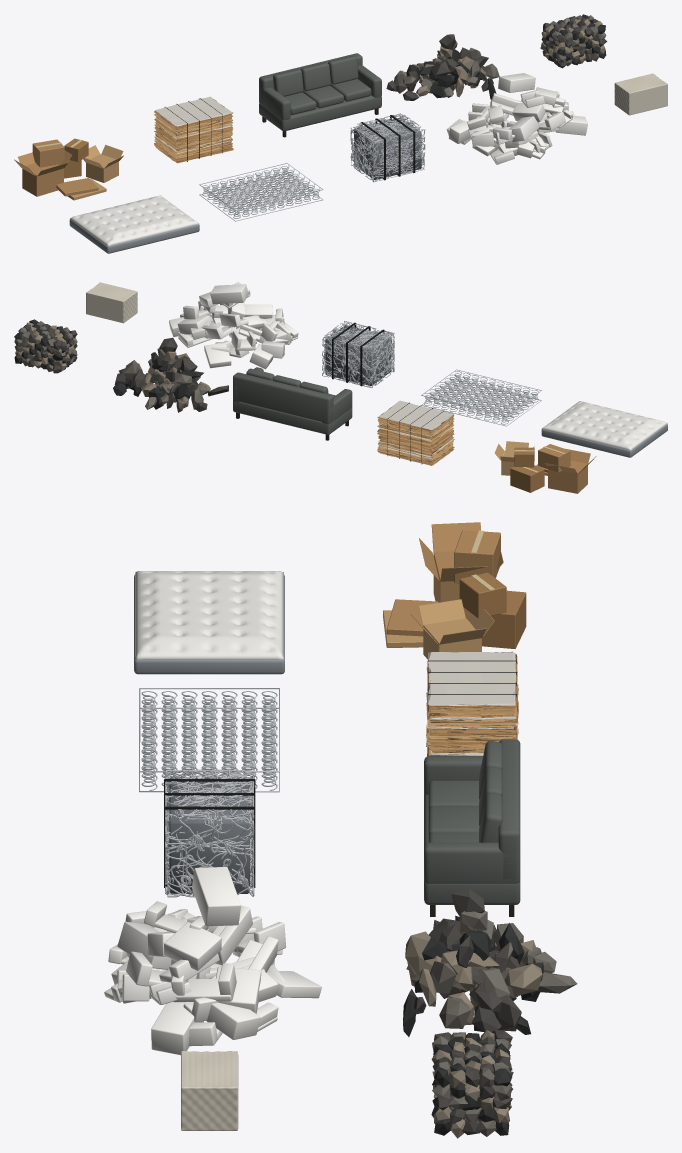
The model's file is journey.min.glb.
3 views of the same model, one above another, from view 1: azimuth 30°, elevation 25°; view 2: azimuth 150°, elevation 25°; view 3: azimuth 270°, elevation 25° (orthographic). The views are drawn at different scales.
Visible parts, largest first — view 1: polyPileMesh, sofaMesh, springsWire, mattressTop, baleWire, baleCore, polyBlockMesh, cbMesh_cardWhite, cbMesh_kraft3, boxMesh0, cbMesh_kraft2, cbMesh_kraft (+14 smaller); view 2: polyPileMesh, sofaMesh, springsWire, mattressTop, baleWire, baleCore, cbMesh_cardWhite, polyBlockMesh, residualPile_chunkA, cbMesh_kraft, cbMesh_kraft2, residualPile_chunkB (+14 smaller); view 3: polyPileMesh, sofaMesh, mattressTop, springsWire, baleWire, cbMesh_cardWhite, polyBlockMesh, baleCore, residualPile_chunkA, residualPile_chunkB, residualPile_chunkD, boxMesh2 (+15 smaller).
Part boxes in pixels (bbox=[...]): polyPileMesh: bbox=[446, 73, 587, 164]; sofaMesh: bbox=[259, 53, 381, 131]; springsWire: bbox=[199, 163, 323, 221]; mattressTop: bbox=[70, 195, 198, 246]; baleWire: bbox=[350, 113, 425, 182]; baleCore: bbox=[354, 117, 421, 179]; polyBlockMesh: bbox=[614, 73, 667, 115]; cbMesh_cardWhite: bbox=[155, 96, 232, 155]; cbMesh_kraft3: bbox=[153, 114, 233, 160]; boxMesh0: bbox=[14, 150, 71, 196]; cbMesh_kraft2: bbox=[154, 98, 233, 162]; cbMesh_kraft: bbox=[154, 111, 232, 163]; polyPileMesh: bbox=[169, 282, 298, 369]; sofaMesh: bbox=[233, 367, 352, 434]; springsWire: bbox=[421, 369, 541, 426]; mattressTop: bbox=[542, 401, 667, 450]; baleWire: bbox=[322, 321, 394, 387]; baleCore: bbox=[325, 325, 391, 385]; cbMesh_cardWhite: bbox=[378, 400, 453, 458]; polyBlockMesh: bbox=[86, 282, 137, 323]; residualPile_chunkA: bbox=[114, 337, 228, 411]; cbMesh_kraft: bbox=[377, 416, 454, 465]; cbMesh_kraft2: bbox=[377, 405, 454, 464]; residualPile_chunkB: bbox=[124, 348, 207, 412]; polyPileMesh: bbox=[104, 867, 321, 1055]; sofaMesh: bbox=[424, 739, 520, 904]; mattressTop: bbox=[135, 571, 283, 659]; springsWire: bbox=[139, 688, 279, 792]; baleWire: bbox=[165, 769, 254, 897]; cbMesh_cardWhite: bbox=[426, 651, 517, 755]; polyBlockMesh: bbox=[181, 1051, 238, 1130]; baleCore: bbox=[169, 777, 249, 893]; residualPile_chunkA: bbox=[414, 888, 523, 1033]; residualPile_chunkB: bbox=[406, 911, 577, 1028]; residualPile_chunkD: bbox=[405, 906, 542, 1025]; boxMesh2: bbox=[410, 599, 494, 659].
Bounding box in the file's own units: 11.97 × 1.35 × 4.33.
